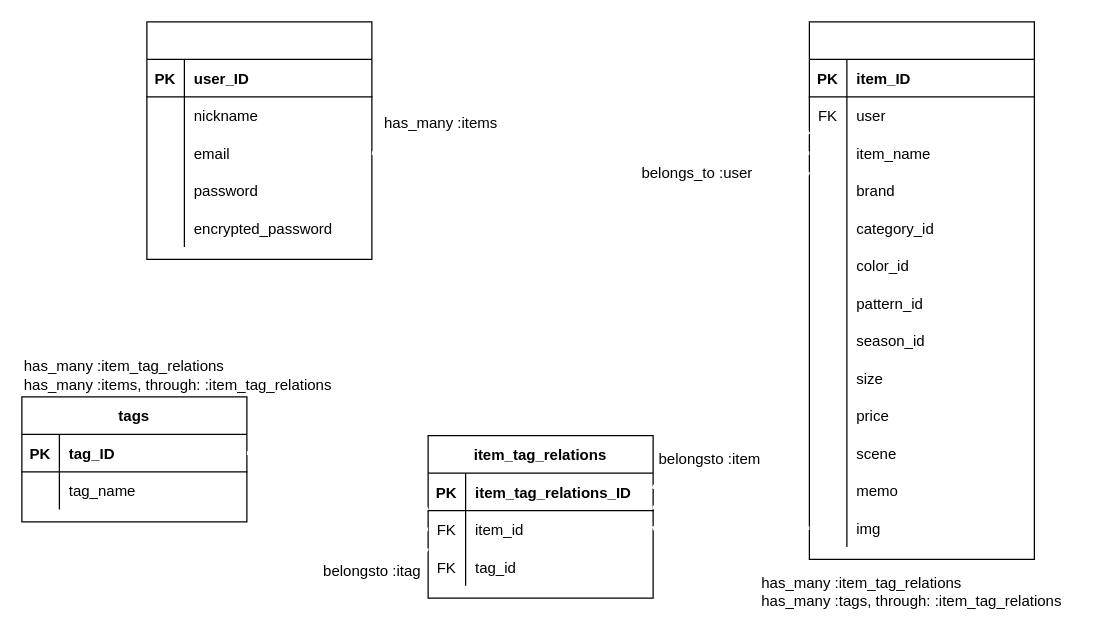
This 1106x633 diagram has some shape labels left out. Here are the shapes that lost their labels. From the top down, the box of each, then its label:
(146, 21, 372, 259): users
(808, 21, 1034, 559): items
